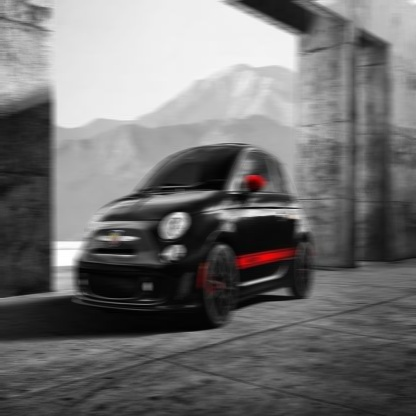Vehicle: (74, 125, 317, 332)
